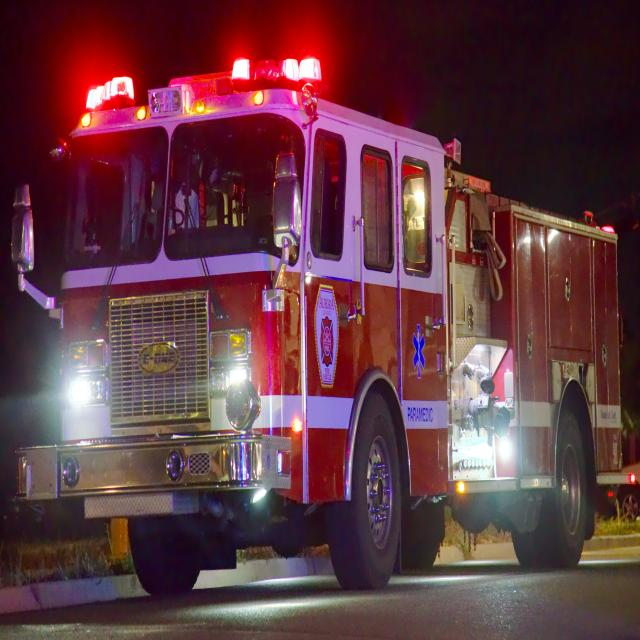truck: (12, 58, 630, 596)
